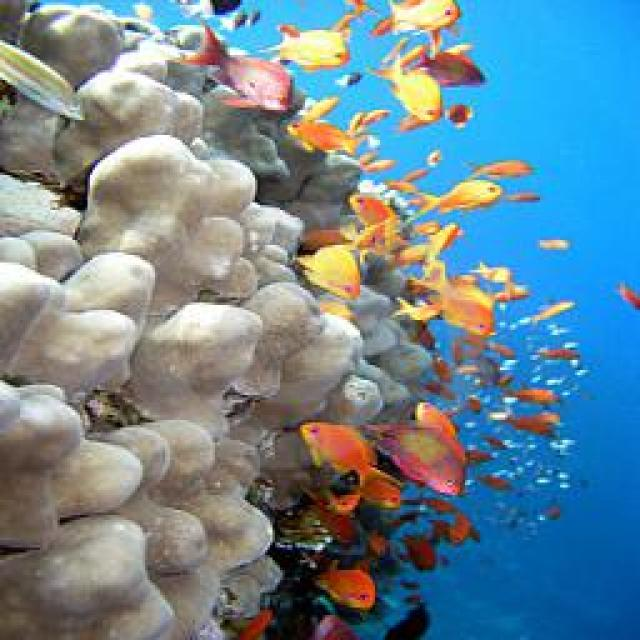fish: (164, 21, 296, 112), (359, 421, 465, 499), (300, 420, 404, 494), (0, 40, 85, 120), (394, 179, 504, 236), (411, 261, 497, 333), (368, 52, 445, 125)
reefs: (0, 0, 437, 638)
